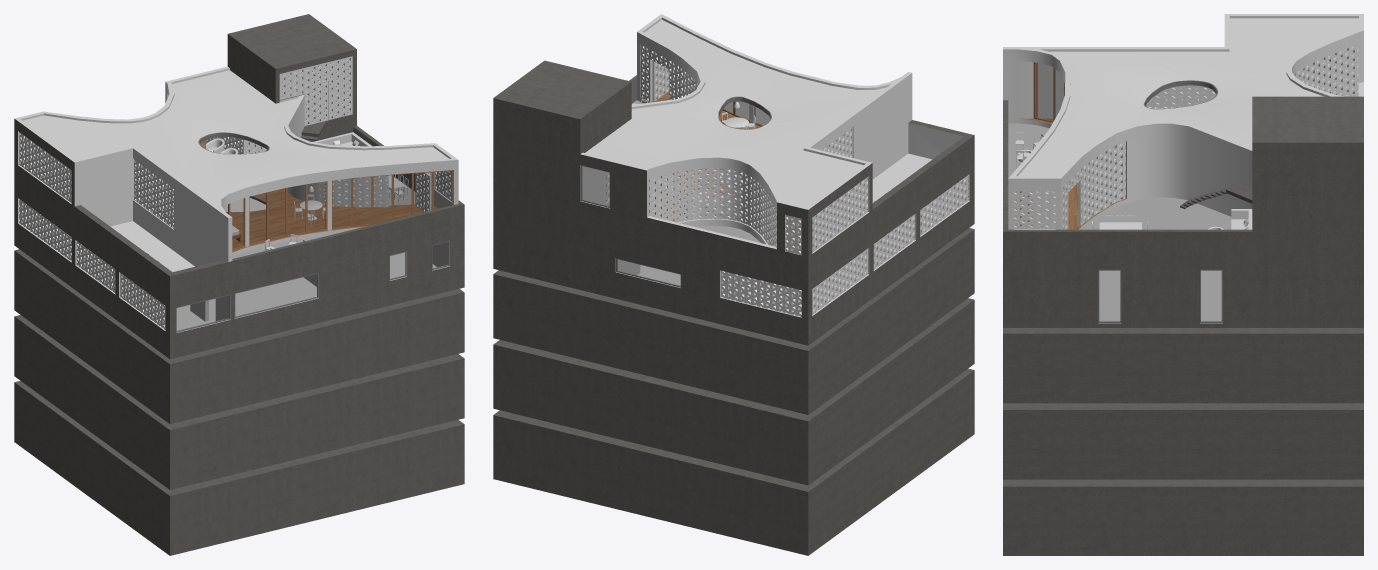
The model's file is penthouse_duplex.glb.
The picture shows the model from 3 angles, left to right: view 1: azimuth 30°, elevation 25°; view 2: azimuth 150°, elevation 25°; view 3: azimuth 270°, elevation 25°; orthographic projection. The views are drawn at different scales.
Parts seen in each view (by area): view 1: flats building, Structure, lattice, glass, flat, door and window frames, table and chairs, ceilings; view 2: flats building, Structure, lattice, glass, ceilings, door and window frames; view 3: Structure, flats building, lattice, ceilings, glass, door and window frames, table and chairs, flat, couch.
Part boxes in pixels (bbox=[...]): flats building: bbox=[14, 249, 464, 555]; Structure: bbox=[14, 14, 464, 359]; lattice: bbox=[19, 56, 451, 329]; glass: bbox=[177, 171, 451, 330]; flat: bbox=[200, 141, 438, 252]; door and window frames: bbox=[176, 170, 453, 332]; table and chairs: bbox=[265, 174, 408, 250]; ceilings: bbox=[232, 176, 415, 258]; flats building: bbox=[493, 228, 974, 555]; Structure: bbox=[493, 14, 974, 345]; lattice: bbox=[606, 44, 968, 316]; glass: bbox=[582, 101, 769, 285]; ceilings: bbox=[631, 100, 770, 242]; door and window frames: bbox=[580, 101, 762, 287]; Structure: bbox=[1003, 14, 1363, 327]; flats building: bbox=[1003, 328, 1363, 555]; lattice: bbox=[1014, 44, 1358, 229]; ceilings: bbox=[1008, 123, 1231, 229]; glass: bbox=[1015, 63, 1221, 321]; door and window frames: bbox=[1020, 62, 1222, 322]; table and chairs: bbox=[1015, 132, 1148, 229]; flat: bbox=[1020, 86, 1357, 229]; couch: bbox=[1231, 209, 1252, 229].
Bounding box in the file's own units: 15.47 × 17.88 × 14.15.
Materials: 9 (4 with a texture image).
